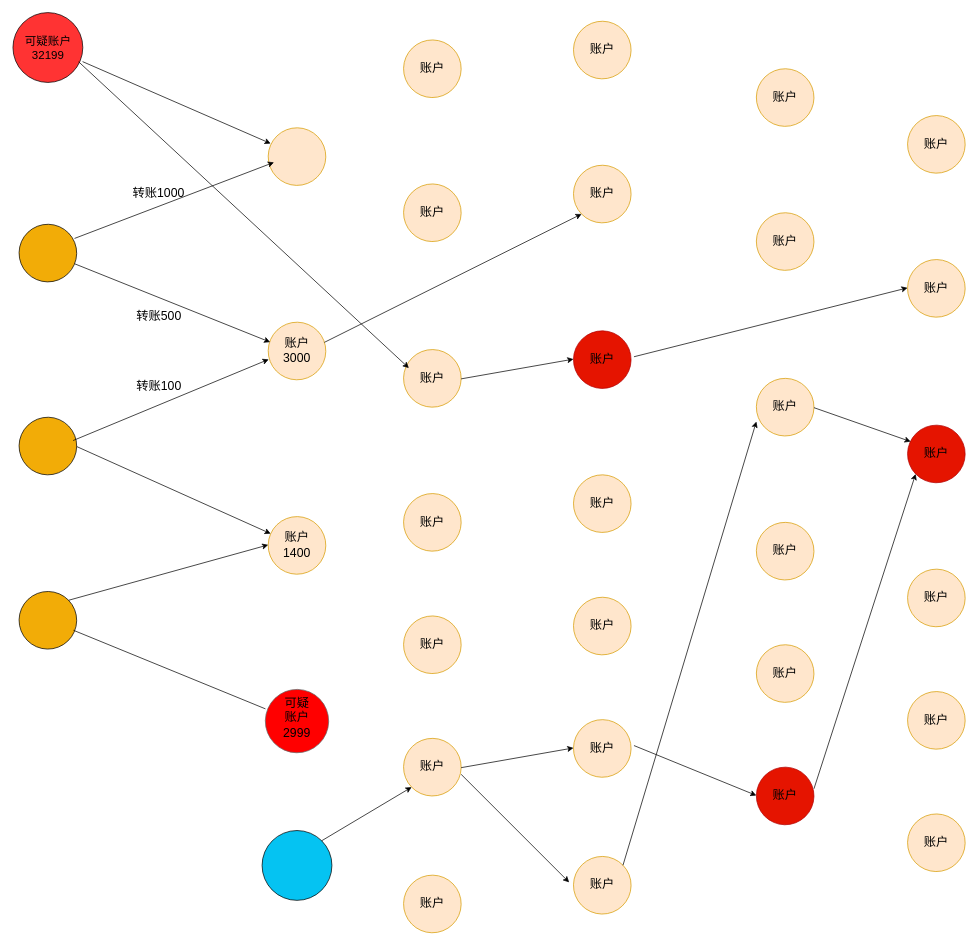
Some shapes in this 978 by 946 pixel diagram are drawn without their labels. The shapes that lost their labels are listed below. From the top down, each one's centre as x and y in pixels, then its label:
(296,156): 账户4999
(47,252): 账户 10000
(47,445): 账户 30000
(47,620): 账户5000
(296,865): 被盗账户 20000
